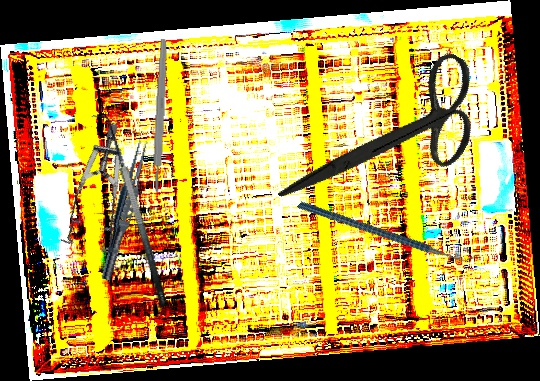Chopper: (297, 147, 480, 314)
Iris Scissors: (277, 12, 503, 264)
Scalpel Handle: (151, 38, 169, 193)
Spatula Surgical: (91, 108, 170, 313)
Speculum: (27, 120, 180, 273)
Tissue Forceps: (97, 137, 153, 283)
